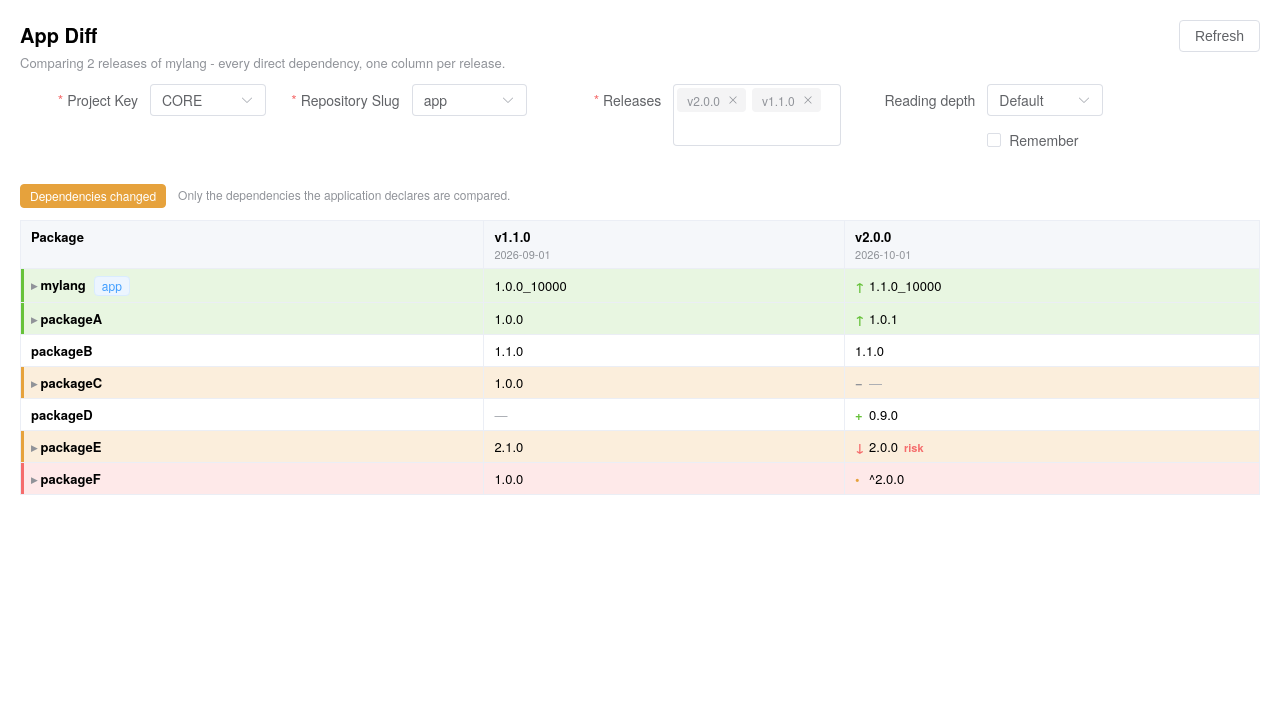
it: AppDiffView › reads a moved package's comparison in its row
Click the row with test id "matrix-row-packageA" at (640, 319), box [20,303,1260,335]
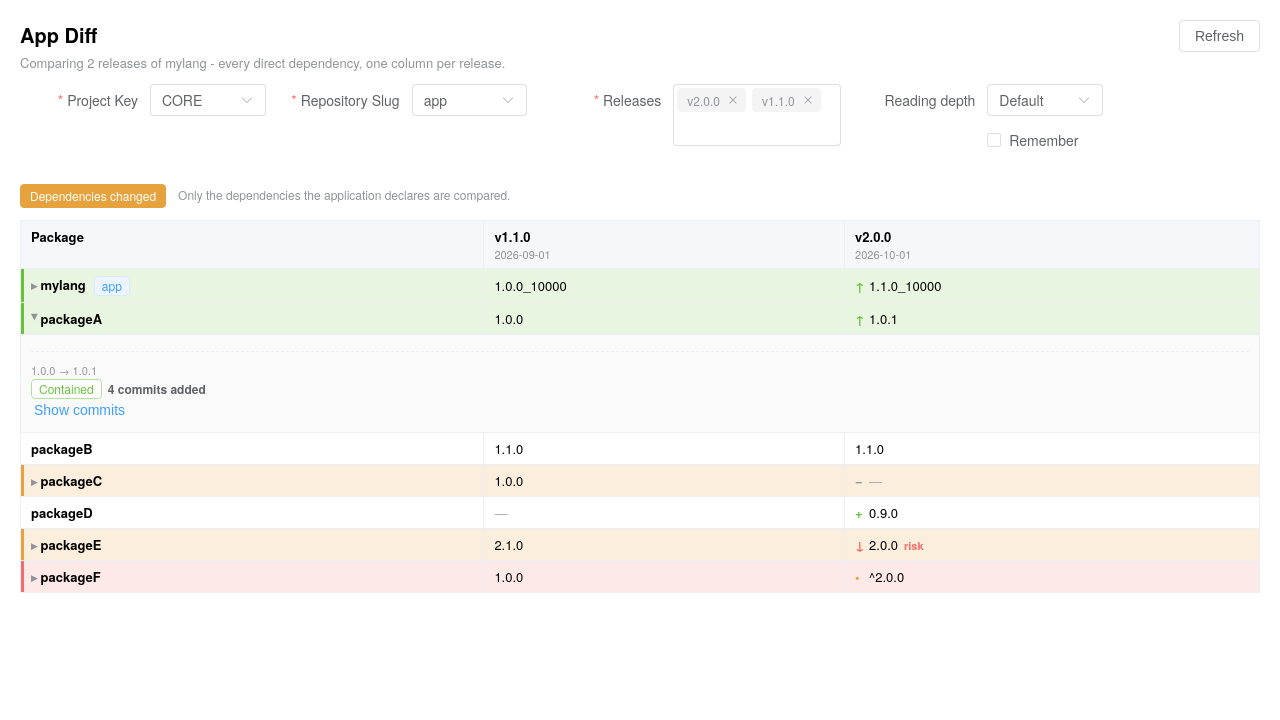
Expected: the element with test id "matrix-packageA-verdict" reads "Contained", [39,380,94,397]
Expected: the element with test id "matrix-packageA-counts" shows "4 commits added", [108,380,206,398]
